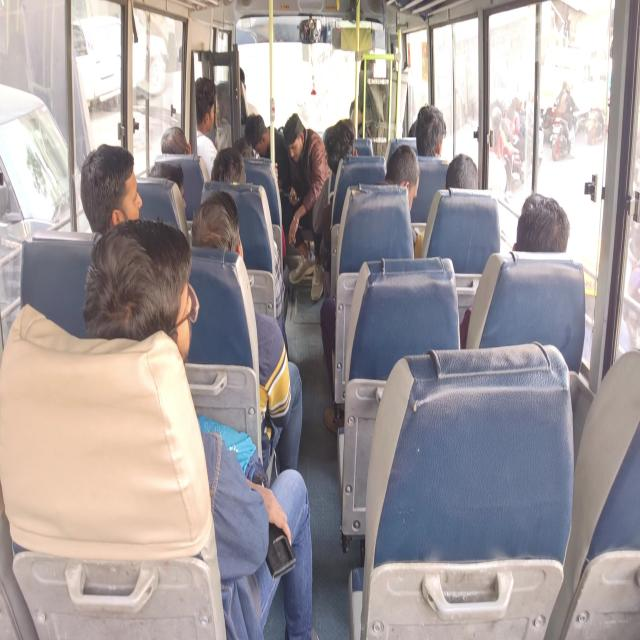person: (83, 216, 317, 639), (190, 190, 303, 474), (320, 144, 421, 434), (459, 192, 570, 348), (282, 113, 330, 300), (311, 118, 356, 301), (80, 142, 142, 235), (384, 144, 422, 258), (243, 113, 290, 192), (512, 192, 570, 252), (194, 76, 218, 180), (415, 104, 446, 157), (149, 160, 185, 200), (210, 147, 246, 184), (444, 153, 479, 189), (239, 66, 258, 120), (160, 125, 191, 154)
